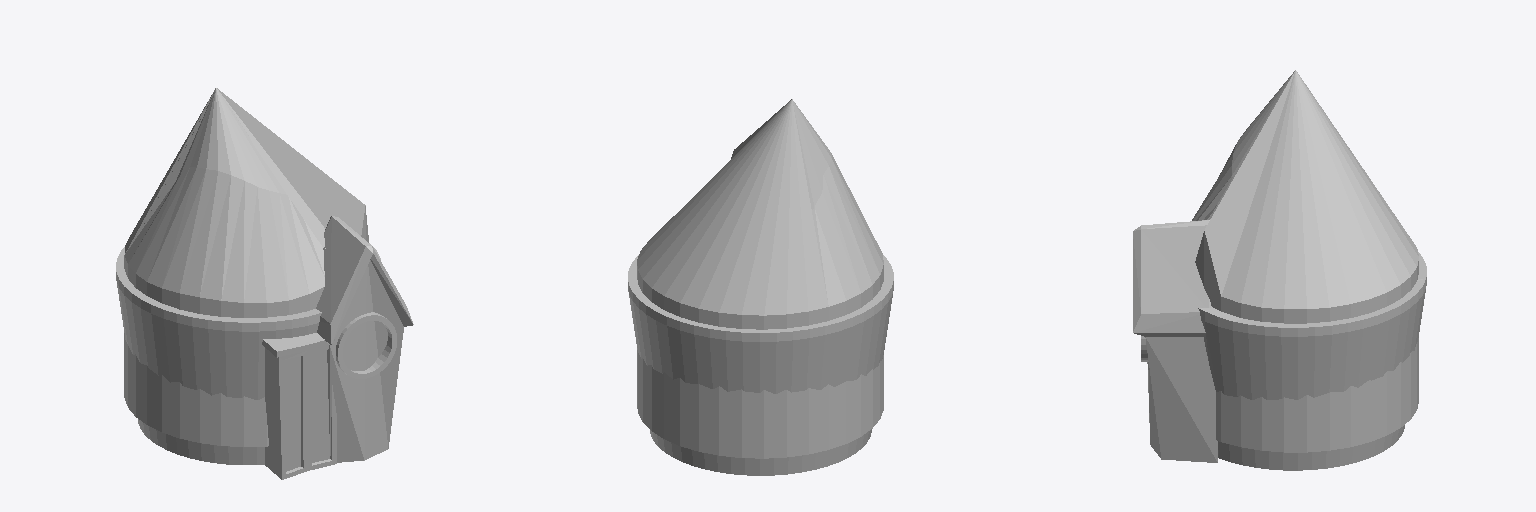
The picture shows the model from 3 angles: view 1: azimuth 30°, elevation 25°; view 2: azimuth 150°, elevation 25°; view 3: azimuth 270°, elevation 25°; orthographic projection.
Parts seen in each view (by area): view 1: 柱体; view 2: 柱体; view 3: 柱体.
Boxes of the visible parts, box(x1,y1,x2,y2) form: 柱体: box(116, 88, 413, 479); 柱体: box(628, 99, 893, 475); 柱体: box(1133, 70, 1426, 470).
Size of the model in its own units: 0.2713 by 0.3839 by 0.3003.